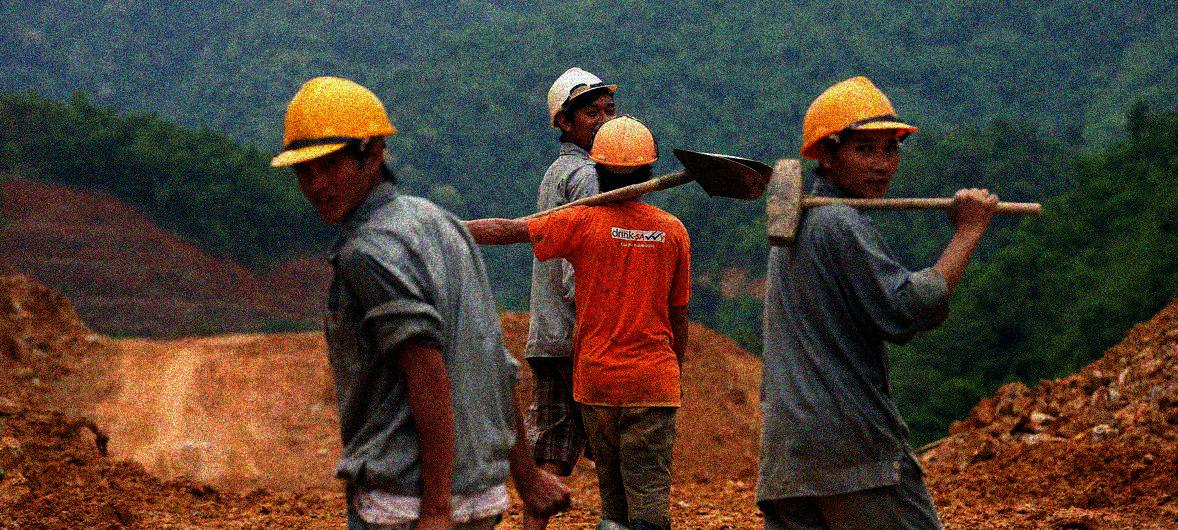helmet: (271, 74, 395, 226), (799, 75, 915, 194), (591, 116, 664, 199), (547, 63, 618, 146)
